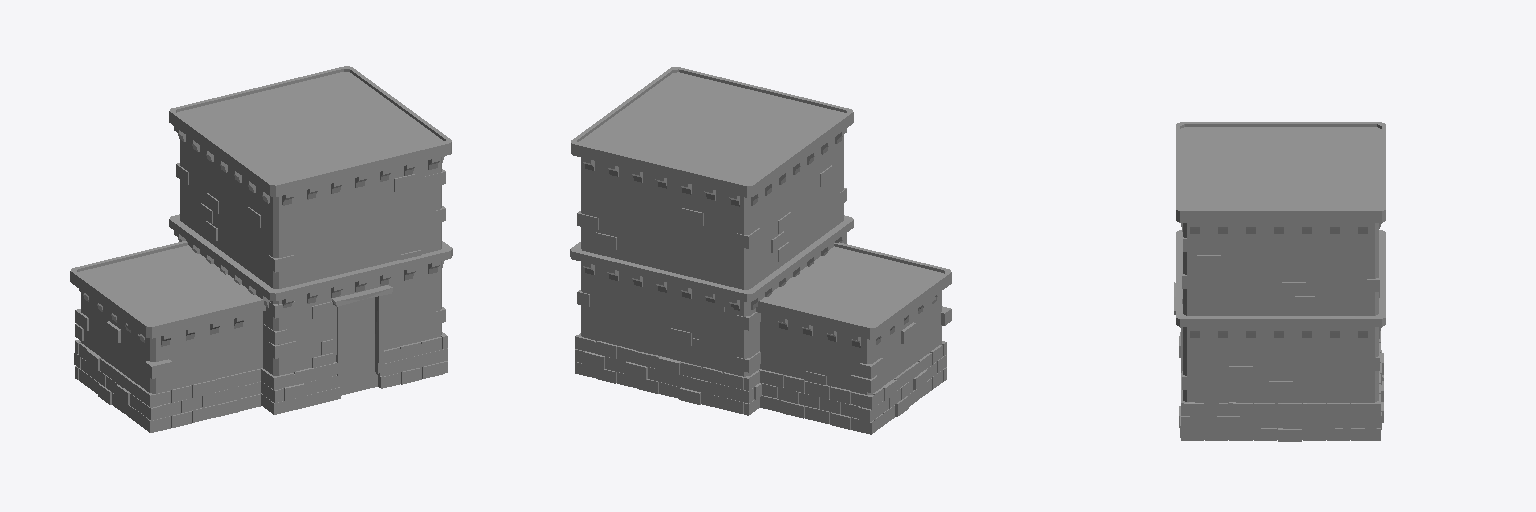
The model's file is 2Story_Sidehouse_Base.obj.
3 renders of one model, left to right at view 1: azimuth 30°, elevation 25°; view 2: azimuth 150°, elevation 25°; view 3: azimuth 270°, elevation 25°, orthographic.
Parts seen in each view (by area): view 1: 2Story_Sidehouse_Base_Cube.059; view 2: 2Story_Sidehouse_Base_Cube.059; view 3: 2Story_Sidehouse_Base_Cube.059.
Part boxes in pixels (x1,y1,x2,y2): 2Story_Sidehouse_Base_Cube.059: (70, 66, 452, 432); 2Story_Sidehouse_Base_Cube.059: (570, 67, 951, 434); 2Story_Sidehouse_Base_Cube.059: (1174, 122, 1385, 441).
Size of the model in its own units: 3.47 by 2.62 by 2.17.